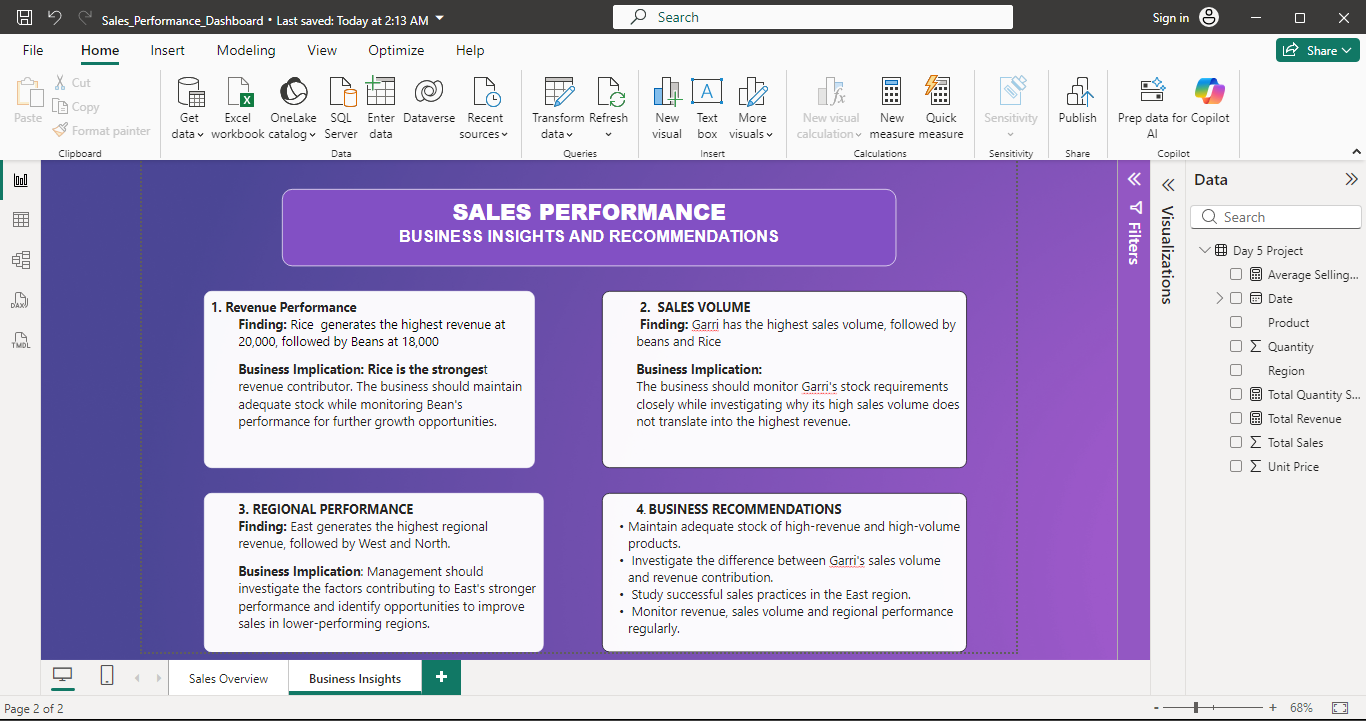

Layout of this report page (visuals, bound fields, positions):
{"tool":"powerbi","page":{"name":"Business Insights","canvas":[1280,720],"ordinal":1},"visuals":[{"type":"textbox","box":[204.9,42,898.7,112.5],"z":0},{"type":"textbox","box":[90.7,191.5,483.8,258.7],"z":1000},{"type":"textbox","box":[90.7,487.1,497.2,233.5],"z":2000},{"type":"textbox","box":[673.6,191.5,534.2,258.7],"z":3000},{"type":"textbox","box":[673.6,487.1,534.2,233.5],"z":4000}]}

Visuals, with their boxes on the page's 1280x720 design canvas (x1, y1, x2, y2). These are canvas units, not pixel positions in the 1366x721 screenshot, which may show the page scaled, cropped or inside an application window:
textbox: Rect(205, 42, 1104, 154)
textbox: Rect(91, 192, 574, 450)
textbox: Rect(91, 487, 588, 721)
textbox: Rect(674, 192, 1208, 450)
textbox: Rect(674, 487, 1208, 721)
